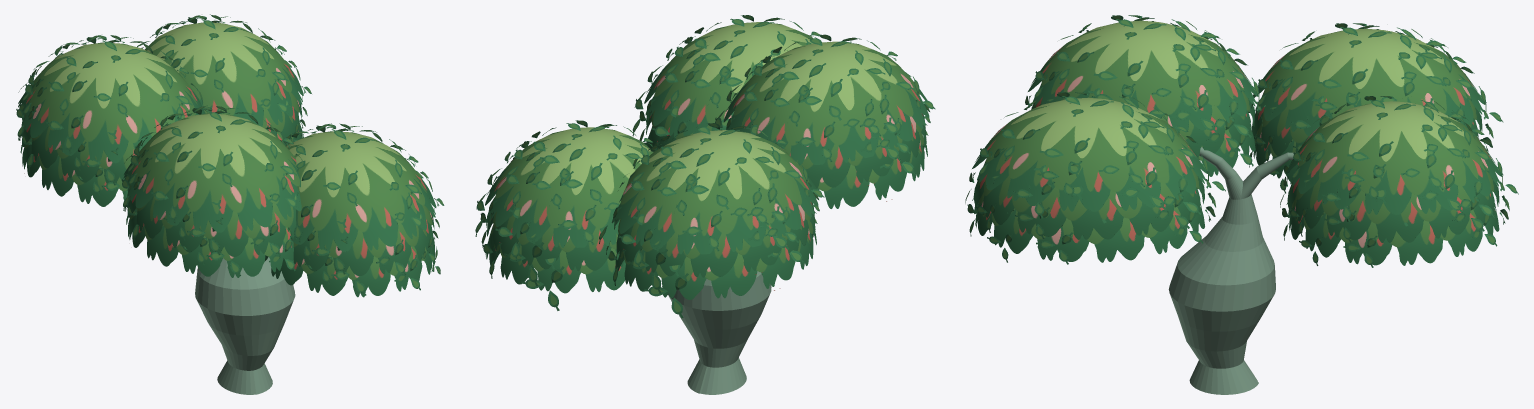
File: ThreeNormal01.fbx
3 renders of one model, left to right at view 1: azimuth 30°, elevation 25°; view 2: azimuth 150°, elevation 25°; view 3: azimuth 270°, elevation 25°, orthographic. The views are drawn at different scales.
Parts seen in each view (by area): view 1: ThreeCrimson1.001; view 2: ThreeCrimson1.001; view 3: ThreeCrimson1.001.
Boxes of the visible parts, bbox=[...] form: ThreeCrimson1.001: bbox=[16, 14, 444, 394]; ThreeCrimson1.001: bbox=[475, 15, 935, 394]; ThreeCrimson1.001: bbox=[965, 15, 1518, 394].
Bounding box in the file's own units: 2124 × 2209 × 3415.
